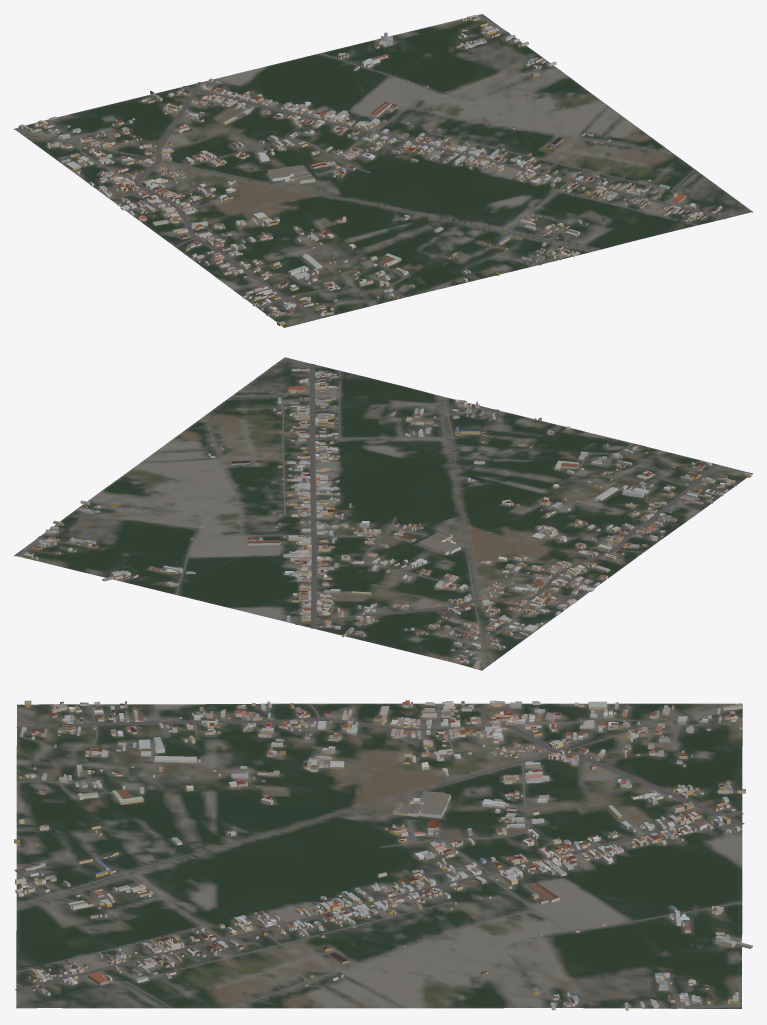
3 views of the same model, one above another, from view 1: azimuth 30°, elevation 25°; view 2: azimuth 150°, elevation 25°; view 3: azimuth 270°, elevation 25° (orthographic). The views are drawn at different scales.
Parts seen in each view (by area): view 1: ground, buildings, roads; view 2: ground, buildings, roads; view 3: ground, buildings, roads.
Part boxes in pixels (left/top/right/bottom): ground: left=14, top=14, right=752, bottom=327; buildings: left=18, top=15, right=721, bottom=325; roads: left=17, top=15, right=726, bottom=318; ground: left=14, top=357, right=752, bottom=670; buildings: left=23, top=367, right=751, bottom=668; roads: left=17, top=364, right=724, bottom=667; ground: left=16, top=703, right=742, bottom=1008; buildings: left=14, top=700, right=752, bottom=1010; roads: left=14, top=703, right=744, bottom=1008.
Bounding box in the file's own units: 1415 × 19.81 × 1426.
